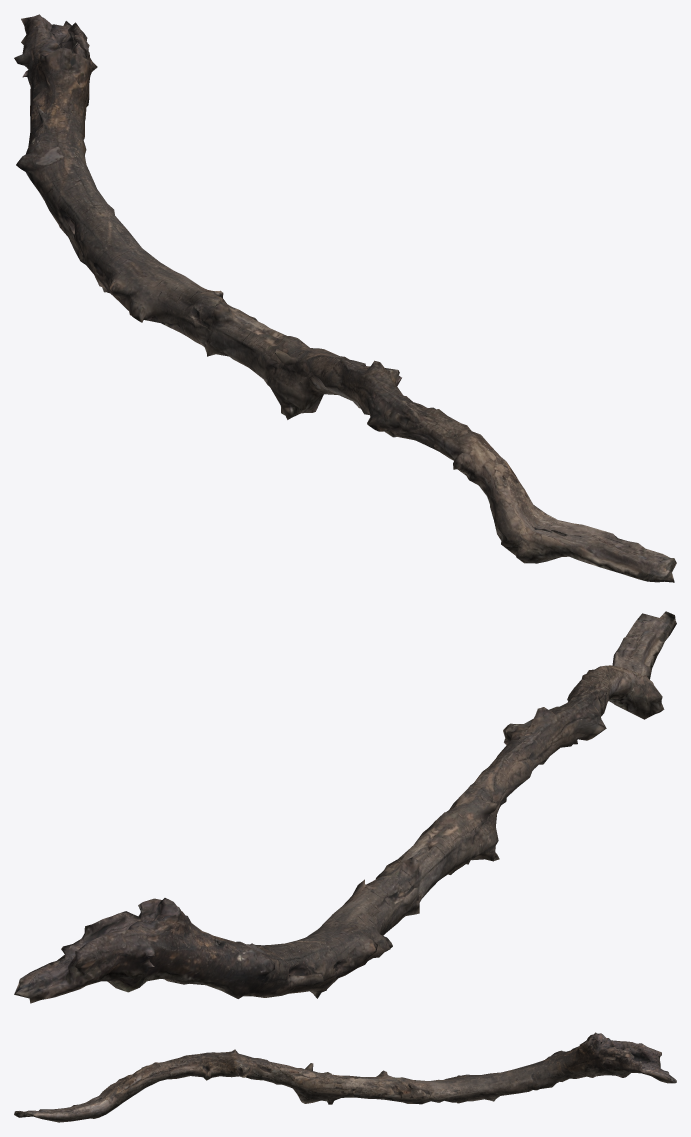
The model's file is SM_Branches_02.gltf.
The picture shows the model from 3 angles, top to bottom: view 1: azimuth 30°, elevation 25°; view 2: azimuth 150°, elevation 25°; view 3: azimuth 270°, elevation 25°; orthographic projection. The views are drawn at different scales.
Visible parts, largest first — view 1: SM_Branches_02; view 2: SM_Branches_02; view 3: SM_Branches_02.
Boxes of the visible parts, x1,y1,x2,y2 form: SM_Branches_02: (14,14,676,582); SM_Branches_02: (14,611,676,1003); SM_Branches_02: (14,1032,676,1122).
Size of the model in its own units: 0.1513 by 0.1418 by 1.04.
1 material, 1 textured.
